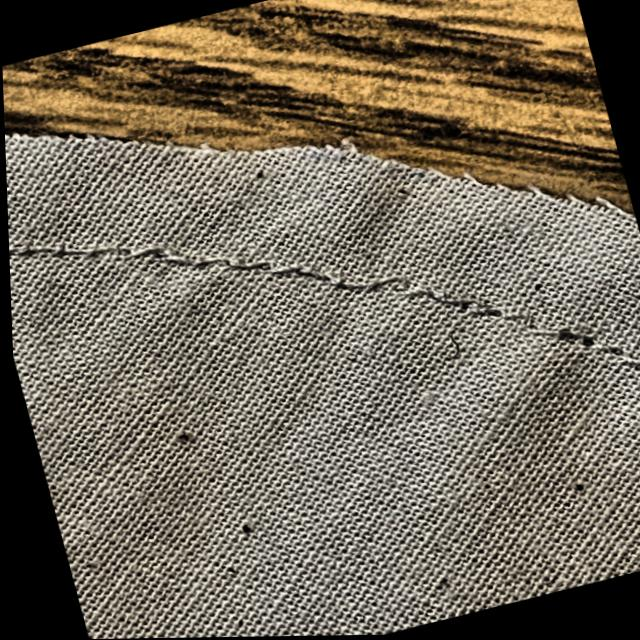Stitch: (359, 222, 616, 422)
